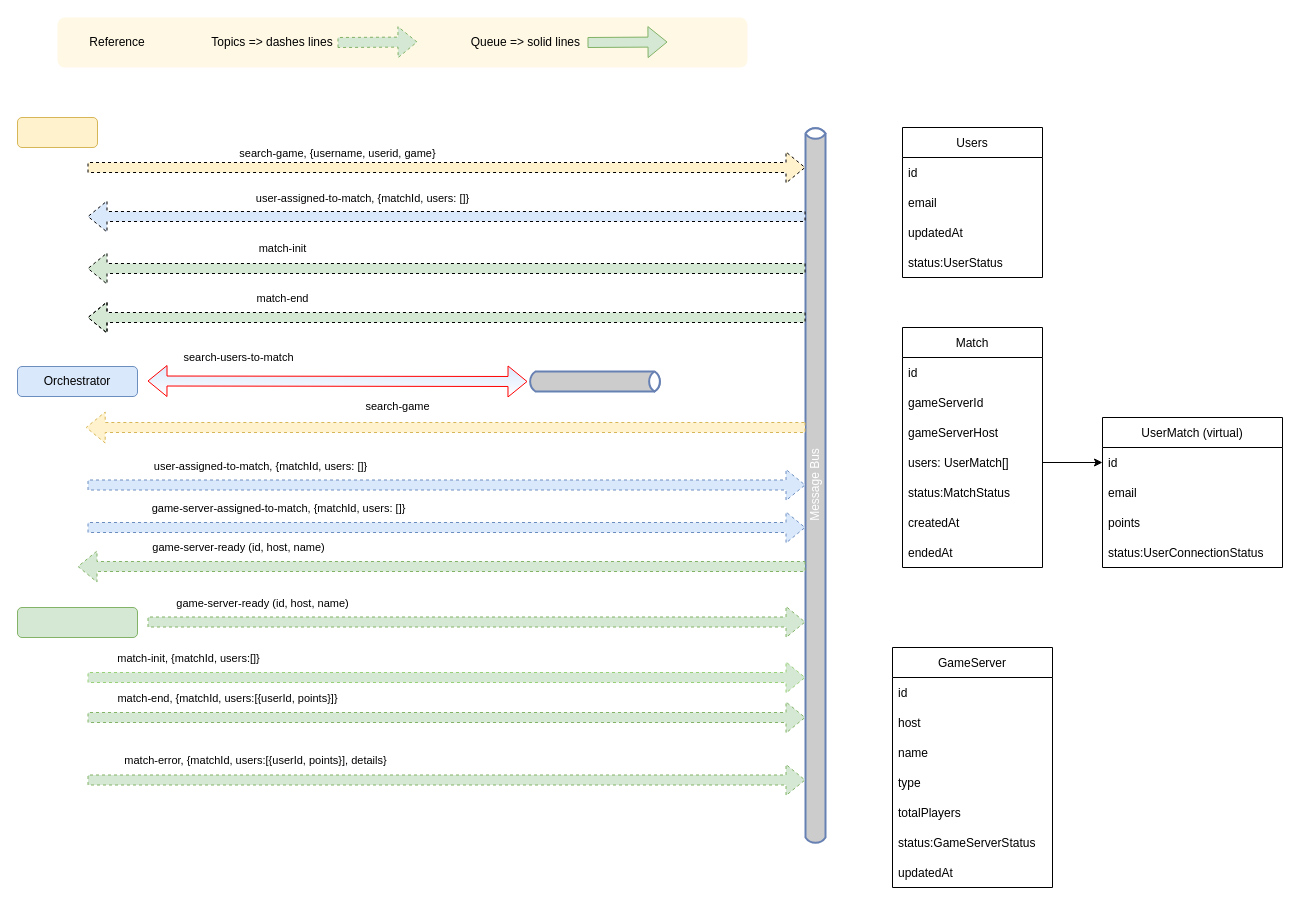
Image size: 1300x905. Some labels were removed from this diagram. Each missing label, with the centre of its shape:
"API" belongs at [57,132].
"Game Server" belongs at [77,622].
"orchestrator-queue" belongs at [594,381].
